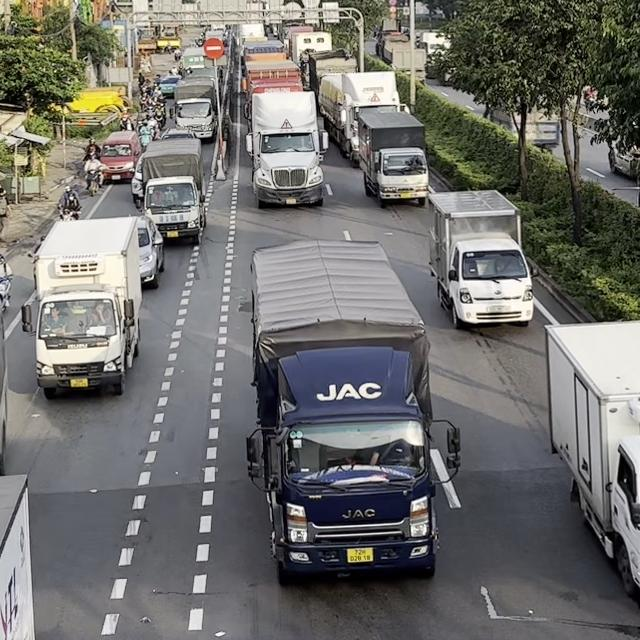car: (130, 214, 164, 288), (96, 129, 141, 184)
motorcycle: (0, 253, 13, 313), (84, 166, 105, 196), (56, 200, 81, 221)
truck: (245, 238, 462, 581), (543, 318, 639, 601), (20, 215, 143, 398), (427, 188, 534, 329), (244, 90, 329, 208), (317, 70, 401, 166), (352, 104, 429, 208), (131, 138, 204, 209), (172, 79, 219, 142)
